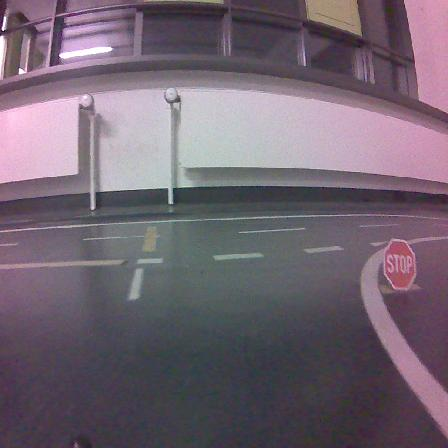STOP: (383, 239, 416, 290)
